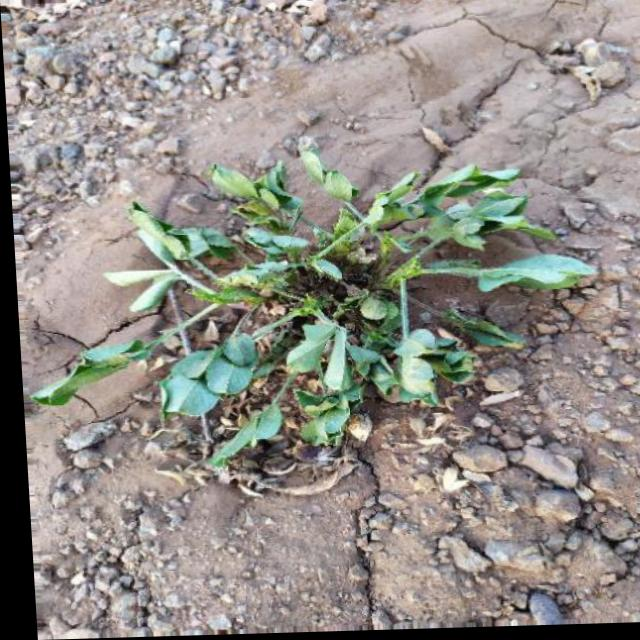weed: (19, 129, 601, 463)
